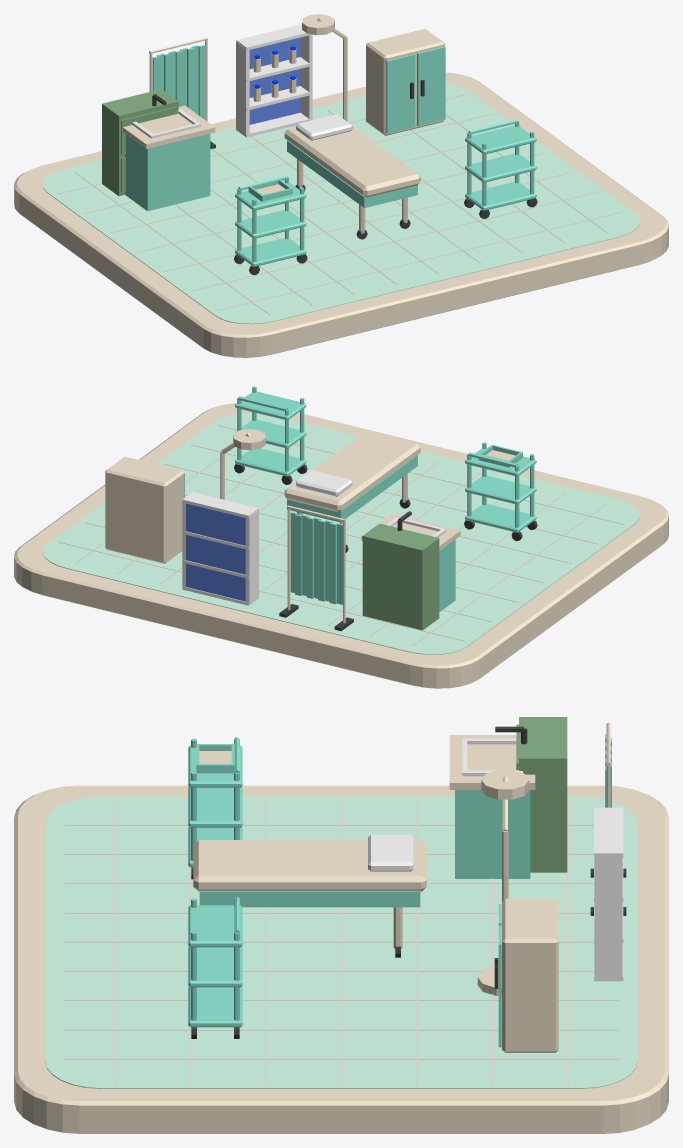
File: room.fbx
3 views of the same model, one above another, from view 1: azimuth 30°, elevation 25°; view 2: azimuth 150°, elevation 25°; view 3: azimuth 270°, elevation 25° (orthographic). The views are drawn at different scales.
Parts seen in each view (by area): view 1: COM-02 Floor Surface, COM-01 Rounded Base Direct, Cabinet, Mattress, Cabinet.001, Equipment case, Cabinet back, Door.001, Door, Counter, Clean supply cabinet side, Tray.005 (+17 smaller); view 2: COM-02 Floor Surface, COM-01 Rounded Base Direct, Equipment case, Cabinet.001, Cabinet back, Mattress, Clean supply cabinet side, Tray.001, Tray, Tray.003, Tray.005, Cabinet (+14 smaller); view 3: COM-02 Floor Surface, COM-01 Rounded Base Direct, Mattress, Equipment case, Cabinet.001, Cabinet, Clean supply cabinet side.001, Counter, Base, Tray.005, Tray.003, Tray.004 (+14 smaller).
Part boxes in pixels (x1,y1,x2,y2): COM-02 Floor Surface: (42, 83, 640, 324); COM-01 Rounded Base Direct: (14, 72, 668, 357); Cabinet: (125, 133, 210, 211); Mattress: (284, 127, 420, 197); Cabinet.001: (102, 89, 178, 196); Equipment case: (366, 28, 444, 135); Cabinet back: (249, 37, 300, 124); Door.001: (417, 46, 445, 126); Door: (386, 54, 414, 133); Counter: (123, 105, 215, 148); Clean supply cabinet side: (236, 41, 249, 136); Tray.005: (465, 125, 536, 154); COM-02 Floor Surface: (42, 413, 640, 654); COM-01 Rounded Base Direct: (14, 403, 668, 688); Equipment case: (105, 456, 184, 563); Cabinet.001: (362, 523, 439, 630); Cabinet back: (186, 503, 245, 601); Mattress: (284, 431, 420, 511); Clean supply cabinet side: (245, 510, 258, 604); Tray.001: (465, 475, 536, 504); Tray: (465, 504, 536, 532); Tray.003: (235, 448, 306, 476); Tray.005: (235, 391, 306, 420); Cabinet: (439, 539, 455, 611); COM-02 Floor Surface: (45, 796, 637, 1088); COM-01 Rounded Base Direct: (14, 785, 668, 1133); Mattress: (193, 840, 426, 891); Equipment case: (502, 898, 558, 1052); Cabinet.001: (516, 717, 567, 872); Cabinet: (455, 790, 530, 878); Clean supply cabinet side.001: (594, 855, 622, 980); Counter: (449, 735, 535, 789); Base: (199, 896, 420, 907); Tray.005: (188, 905, 242, 947); Tray.003: (188, 986, 242, 1027); Tray.004: (188, 946, 242, 987).
Bounding box in the file's own units: 600 × 196 × 520.
